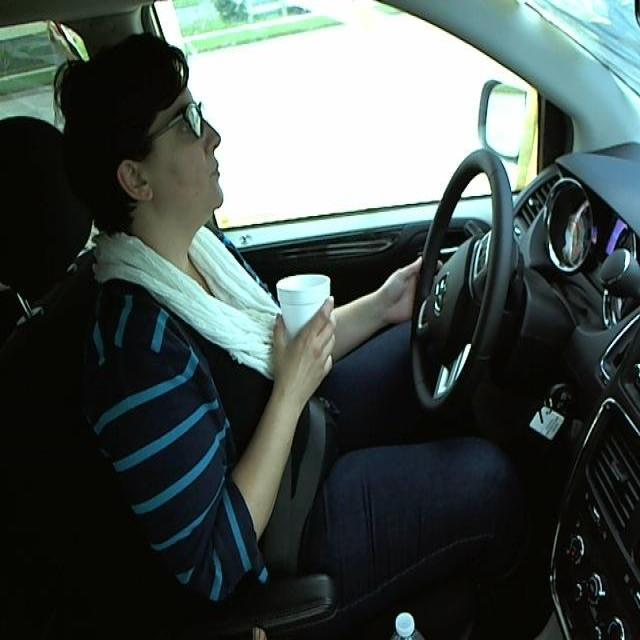Seatbelt: (275, 275, 333, 364)
